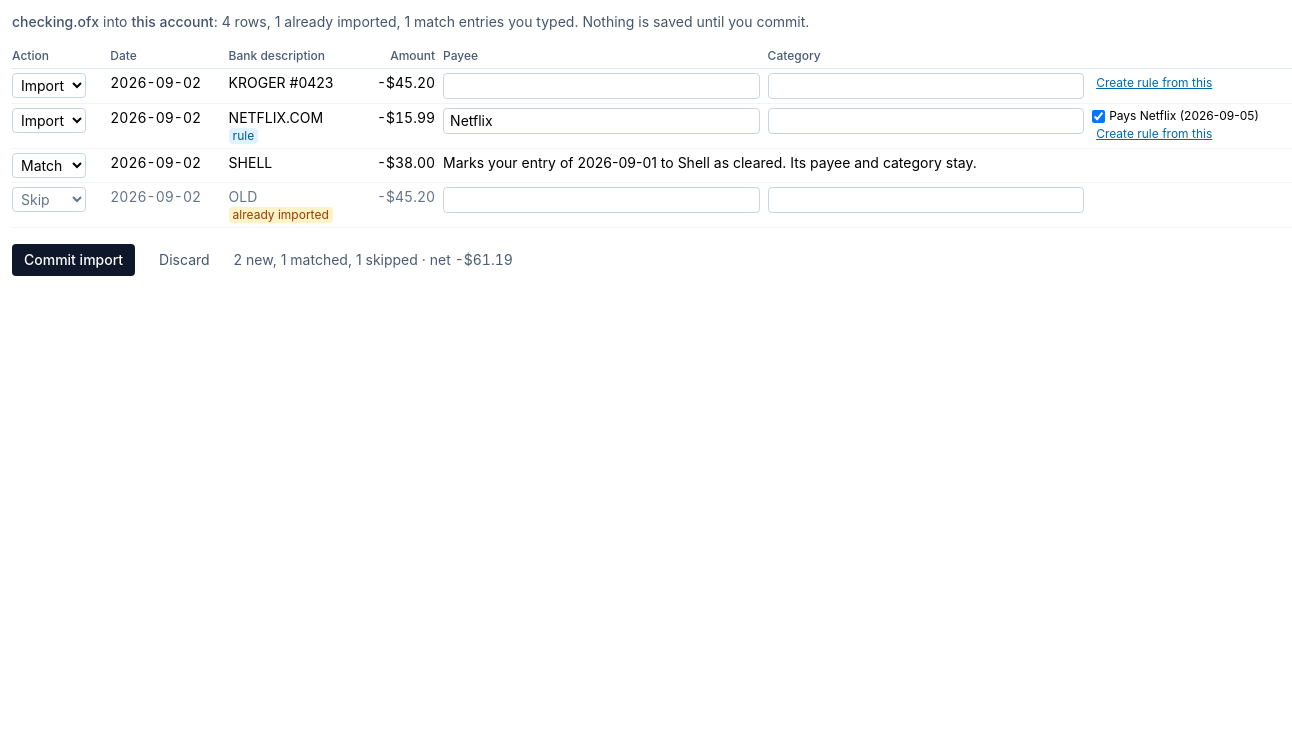
ReviewStep › opens a rule form prefilled from the row
Click the button "Create rule from this" below "Pays" at [1154, 134], box [1092,126,1216,142]
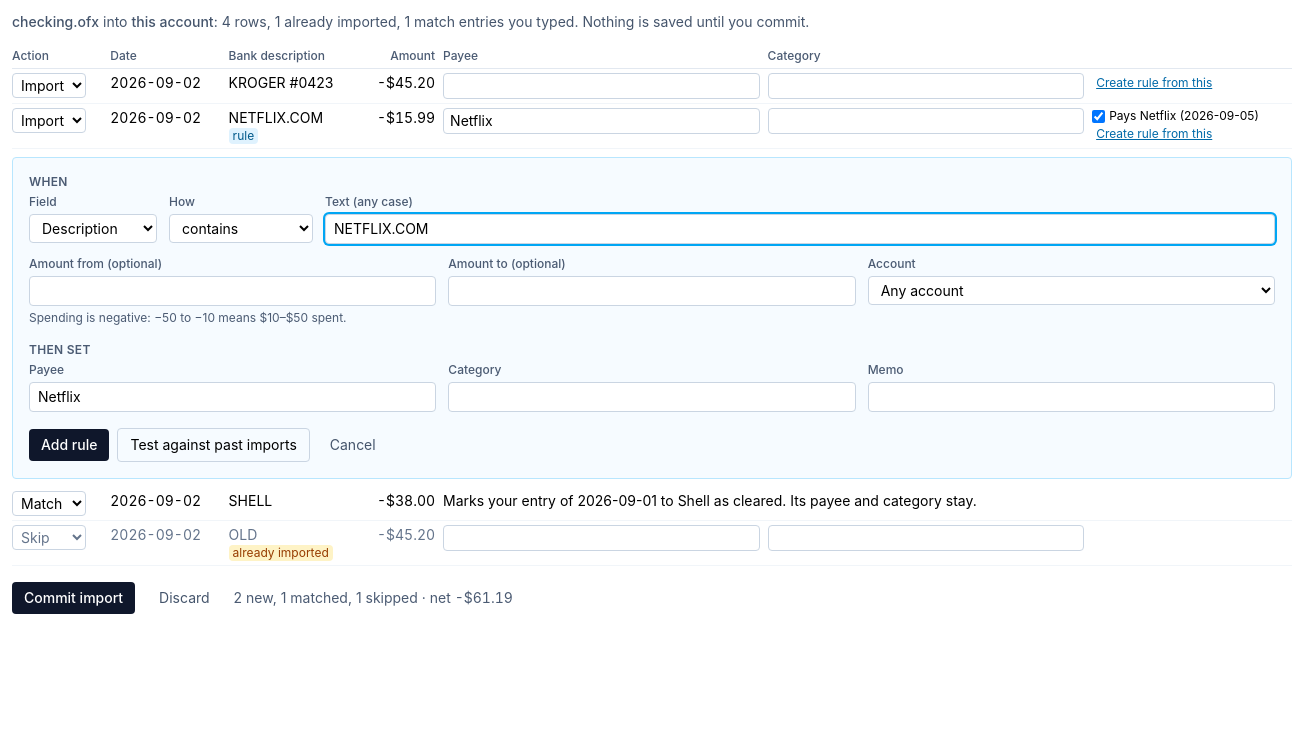
Expected: the field named "Match text" holds "NETFLIX.COM", [325,214,1275,244]
Expected: the dropdown named "Rule payee" holds "Netflix", [29,382,436,412]
